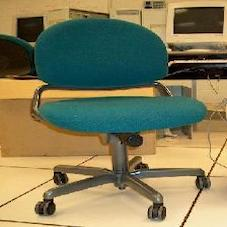chair: (12, 14, 221, 224)
